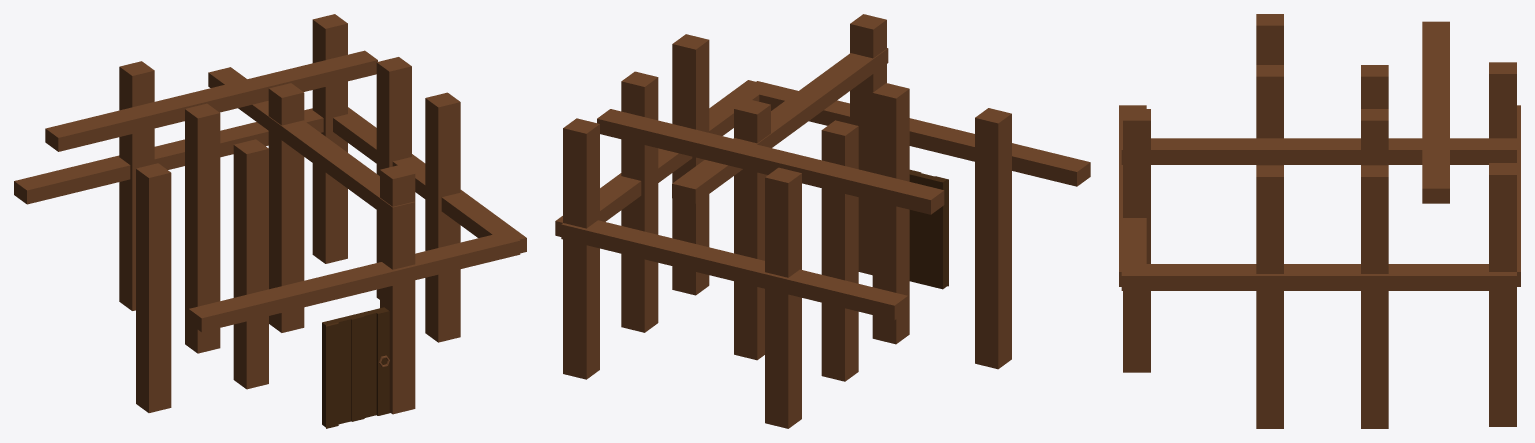
File: medieval2.fbx
3 views of the same model, side by side, from view 1: azimuth 30°, elevation 25°; view 2: azimuth 150°, elevation 25°; view 3: azimuth 270°, elevation 25° (orthographic). The views are drawn at different scales.
Visible parts, largest first — view 1: Cube.001; view 2: Cube.001; view 3: Cube.001.
Boxes of the visible parts, x1,y1,x2,y2 form: Cube.001: [14, 14, 526, 428]; Cube.001: [555, 14, 1090, 428]; Cube.001: [1119, 14, 1520, 428].
Size of the model in its own units: 221 by 152 by 219.
